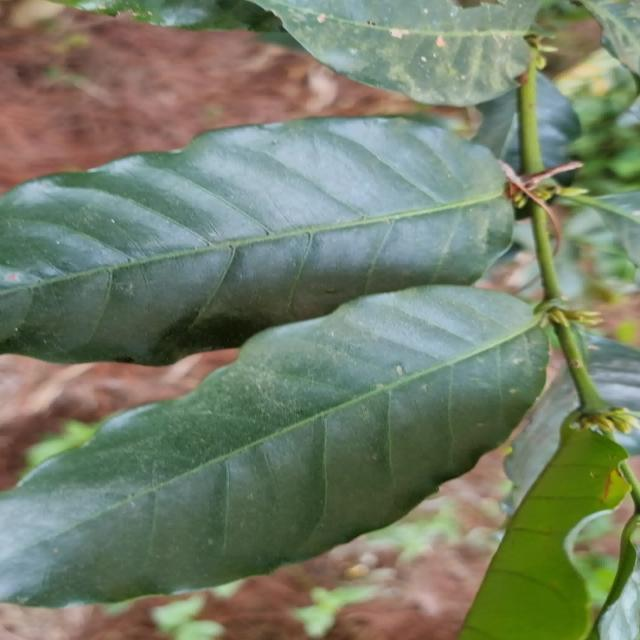leaves: (0, 230, 588, 640), (0, 62, 529, 405)
